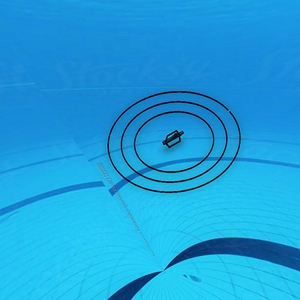circle: (105, 86, 247, 198)
submarine: (159, 131, 186, 152)
